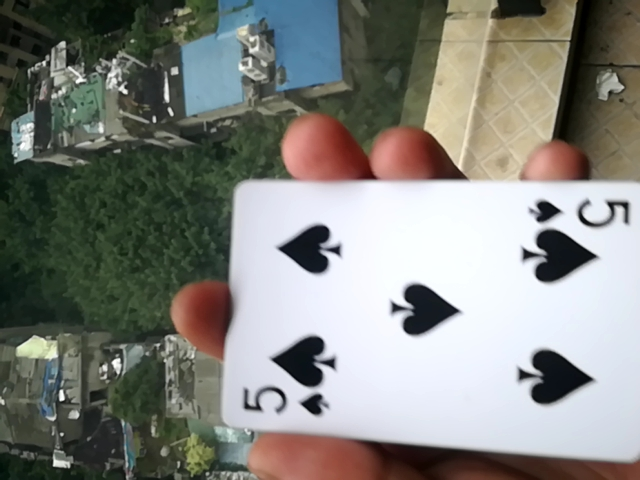ht 5: (217, 179, 636, 461)
